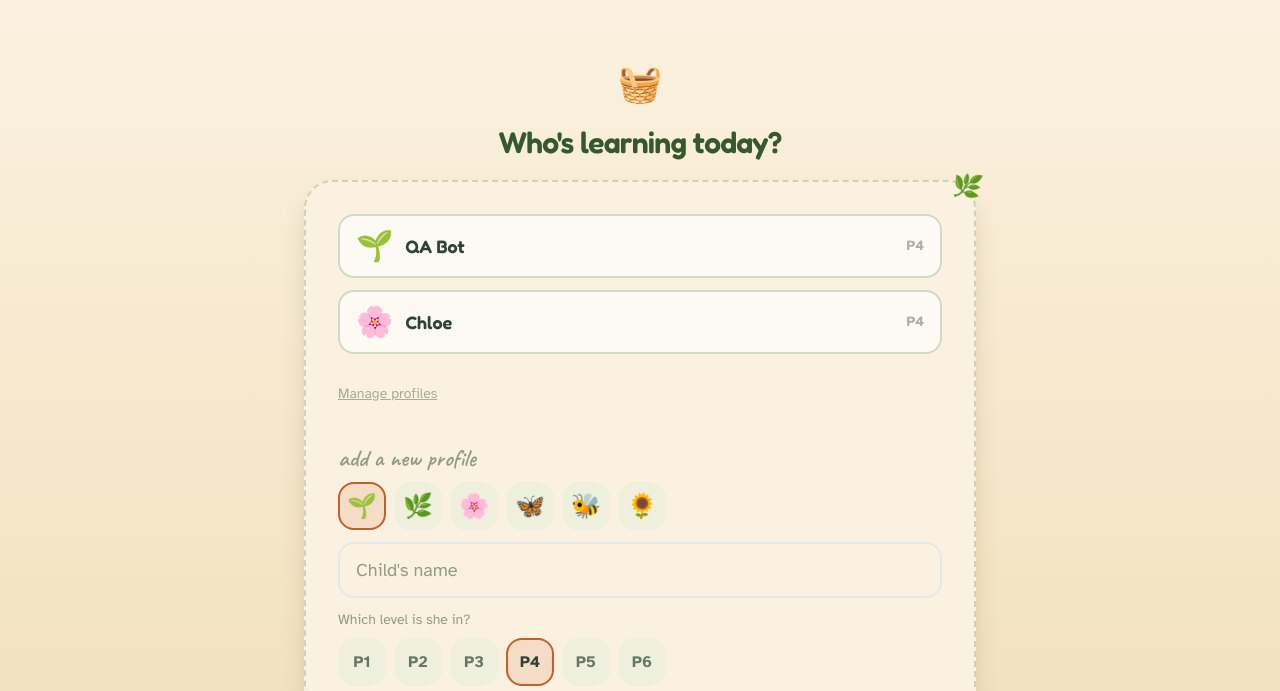
ChildPicker › regression: deleting a profile requires an explicit confirm step, and only removes that one profile
Expected: the text "QA Bot" is shown, [405, 232, 465, 260]
Click the button "Manage profiles" at (388, 394), box [338, 370, 437, 418]
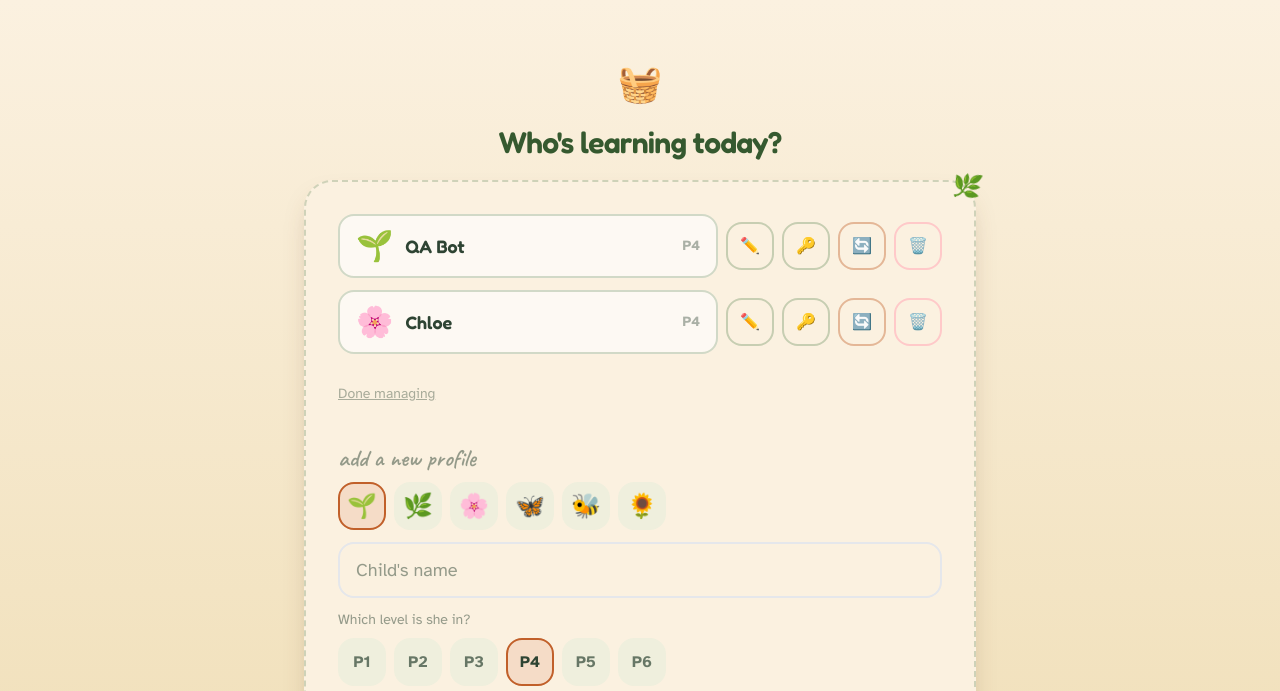
Click the button named "delete qa bot" at (918, 246), box [894, 222, 942, 270]
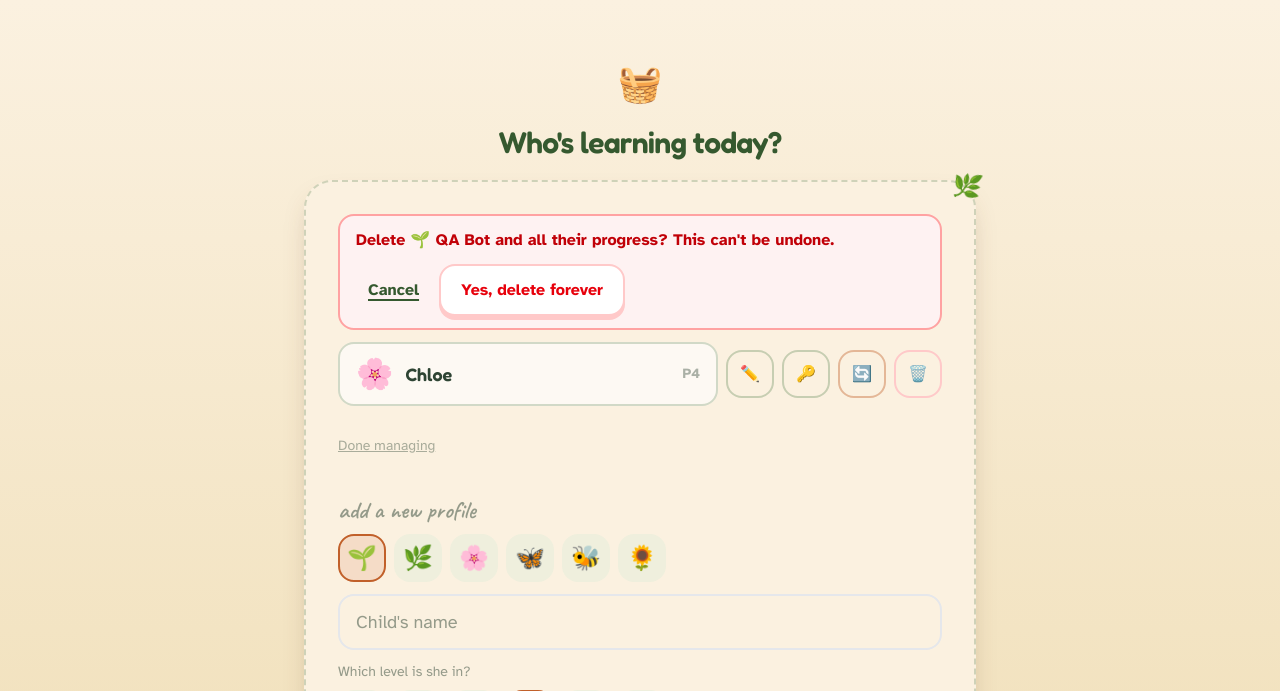
Click the button "Yes, delete forever" at (532, 290), box [439, 264, 625, 316]
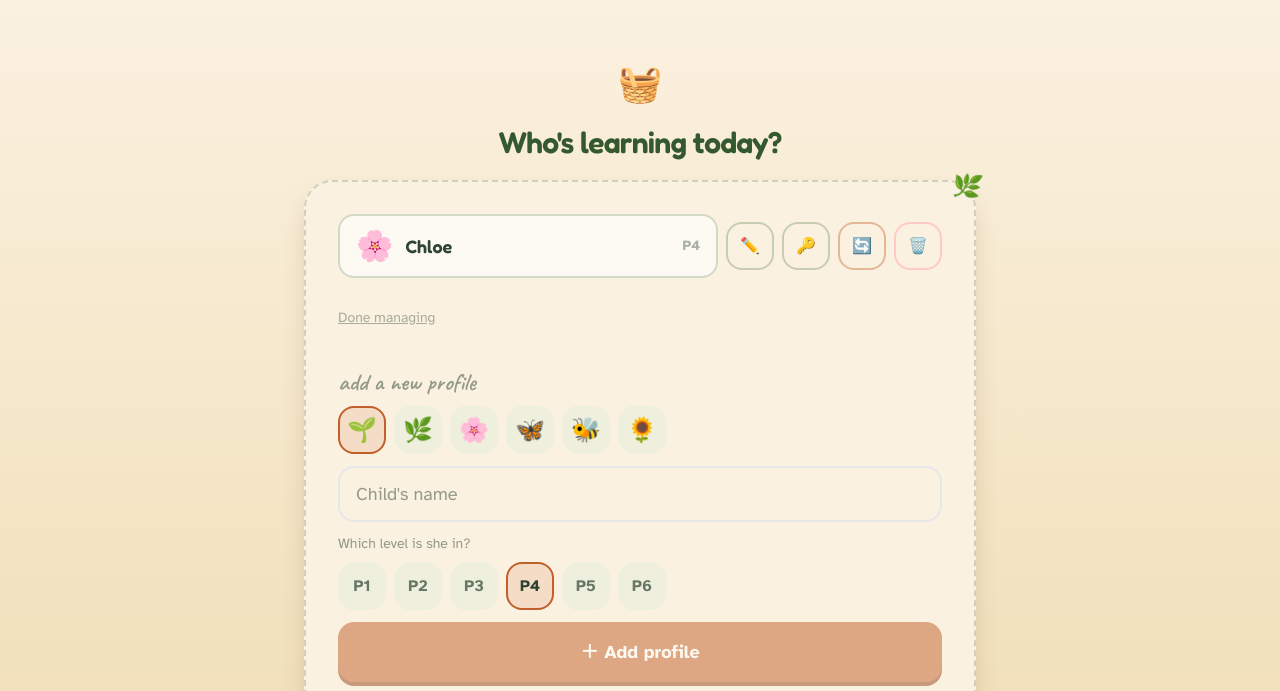
Expected: the text "Chloe" is shown, [405, 232, 452, 260]
Now the text "QA Bot" is gone
